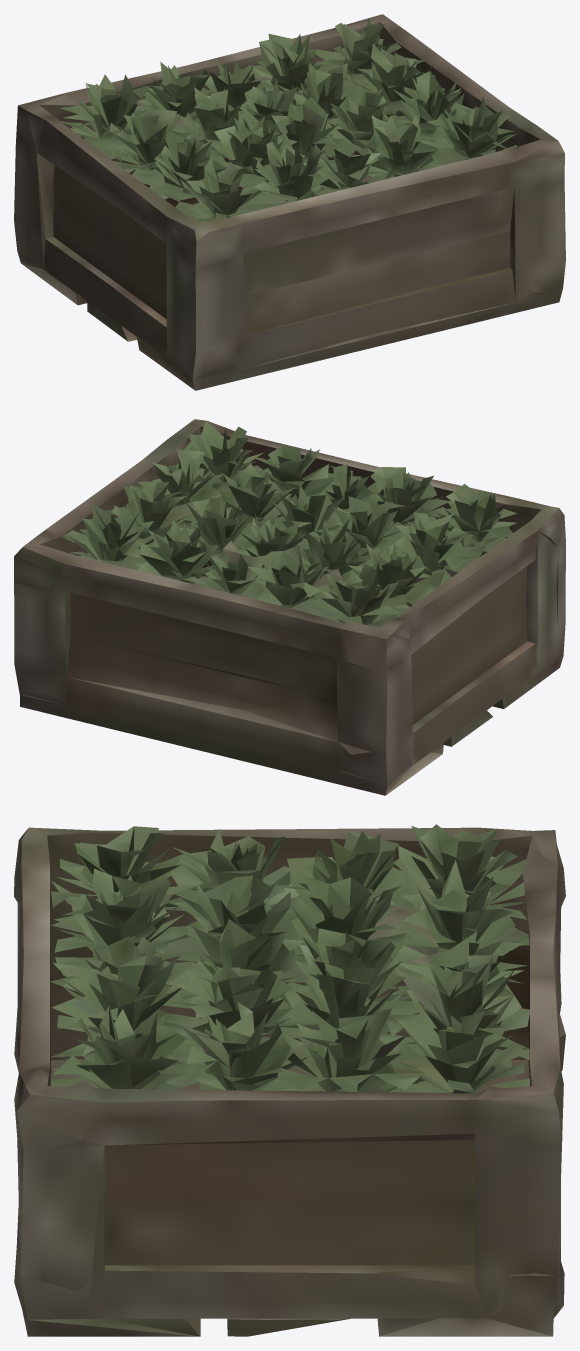
File: res.food_raw_1.glb
3 views of the same model, one above another, from view 1: azimuth 30°, elevation 25°; view 2: azimuth 150°, elevation 25°; view 3: azimuth 270°, elevation 25° (orthographic). The views are drawn at different scales.
Visible parts, largest first — view 1: body; view 2: body; view 3: body.
Part boxes in pixels (x1,y1,x2,y2): body: (14, 14, 565, 390); body: (14, 419, 565, 795); body: (14, 824, 565, 1336).
Bounding box in the file's own units: 0.3992 × 0.19 × 0.3356.
Materials: 1 (1 with a texture image).
